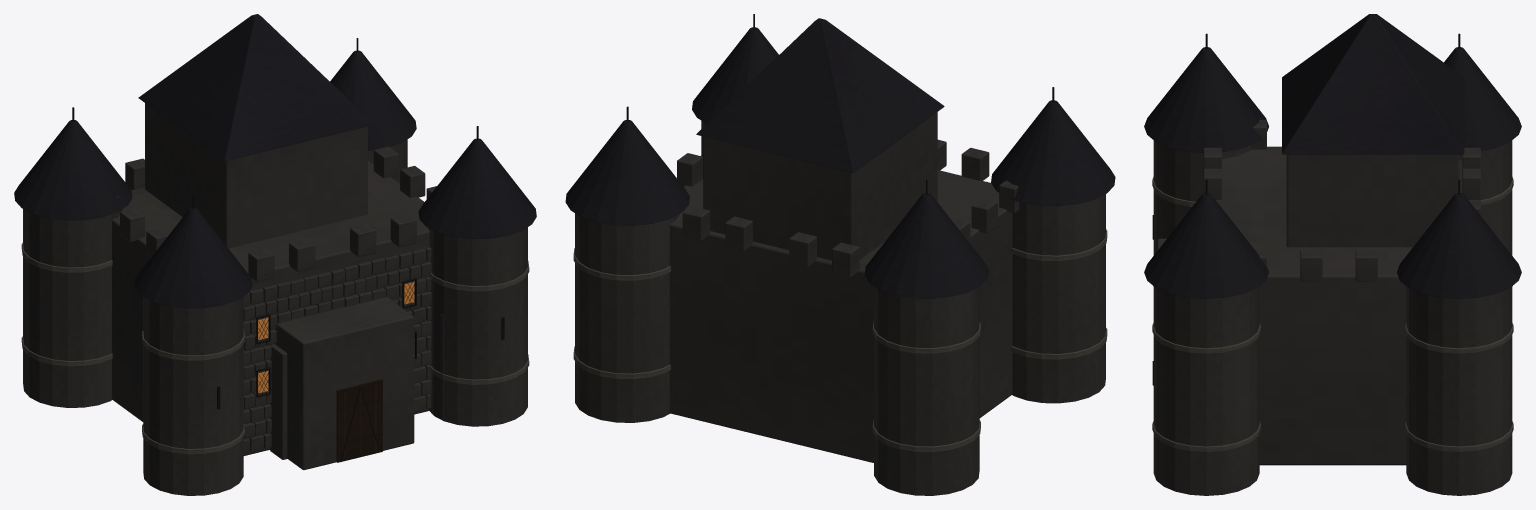
File: prop_town_castle.glb
3 renders of one model, left to right at view 1: azimuth 30°, elevation 25°; view 2: azimuth 150°, elevation 25°; view 3: azimuth 270°, elevation 25°, orthographic. The views are drawn at different scales.
Visible parts, largest first — view 1: stone, slate, mortar, oak, iron, glass; view 2: stone, slate, mortar; view 3: stone, slate, mortar.
Part boxes in pixels (box(x1,y1,x2,y2)): stone: box(23, 103, 527, 495); slate: box(14, 14, 536, 308); mortar: box(21, 243, 529, 454); oak: box(336, 379, 382, 462); iron: box(72, 38, 504, 460); glass: box(258, 282, 414, 392); stone: box(575, 112, 1105, 495); slate: box(565, 18, 1115, 298); mortar: box(573, 155, 1107, 452); stone: box(1153, 120, 1512, 495); slate: box(1144, 14, 1521, 298); mortar: box(1152, 177, 1513, 452).
Bounding box in the file's own units: 38.15 × 34.5 × 30.65.
7 materials, 7 textured.
